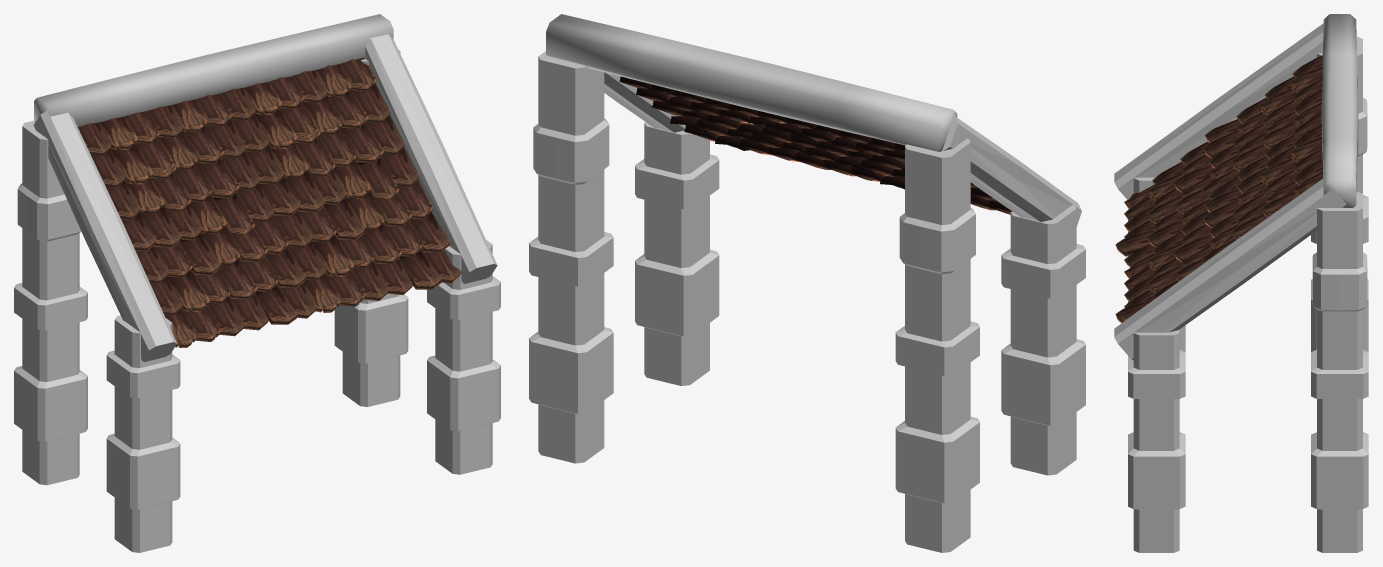
Rendered from VV-RoofTile12.fbx.
3 views of the same model, side by side, from view 1: azimuth 30°, elevation 25°; view 2: azimuth 150°, elevation 25°; view 3: azimuth 270°, elevation 25° (orthographic). The views are drawn at different scales.
Parts seen in each view (by area): view 1: RoofTile.12; view 2: RoofTile.12; view 3: RoofTile.12.
Boxes of the visible parts, x1,y1,x2,y2 form: RoofTile.12: (14, 14, 500, 552); RoofTile.12: (529, 14, 1085, 552); RoofTile.12: (1114, 14, 1368, 552).
Size of the model in its own units: 4.63 by 4.48 by 2.78.
